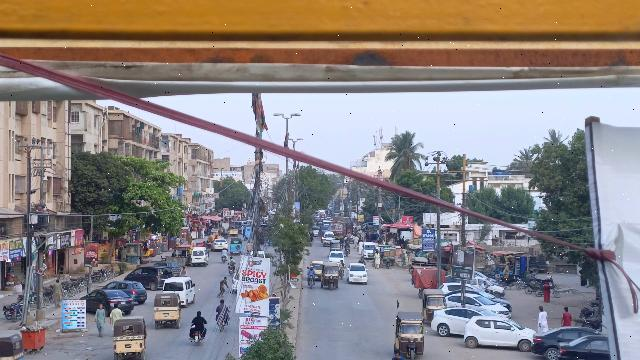Bike: (189, 329, 208, 347), (215, 315, 227, 335), (307, 276, 317, 290)
Car: (461, 314, 534, 351), (529, 326, 596, 358), (431, 306, 487, 338), (445, 294, 510, 317), (79, 289, 134, 314), (557, 336, 610, 360), (123, 265, 172, 290), (103, 280, 148, 305), (346, 261, 370, 285)
Person: (94, 302, 106, 338), (52, 277, 65, 310), (535, 304, 550, 331), (191, 308, 208, 329), (107, 302, 121, 327), (216, 274, 229, 300), (559, 305, 573, 326), (215, 298, 230, 317), (306, 265, 317, 276)
Rickshaw: (394, 310, 427, 360), (113, 318, 148, 360), (152, 292, 182, 332), (420, 287, 445, 324), (321, 262, 340, 291)
Van: (162, 276, 198, 306)
